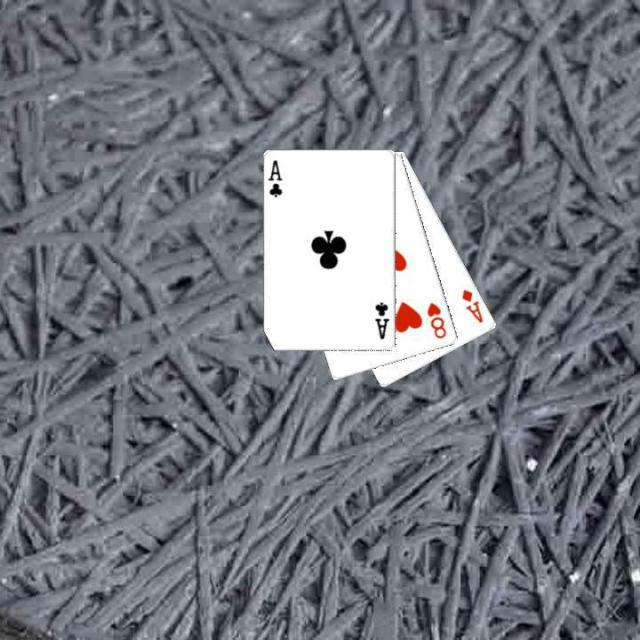8H: (423, 298, 449, 340)
AC: (265, 156, 284, 200), (372, 299, 391, 341)
AD: (458, 286, 485, 326)
